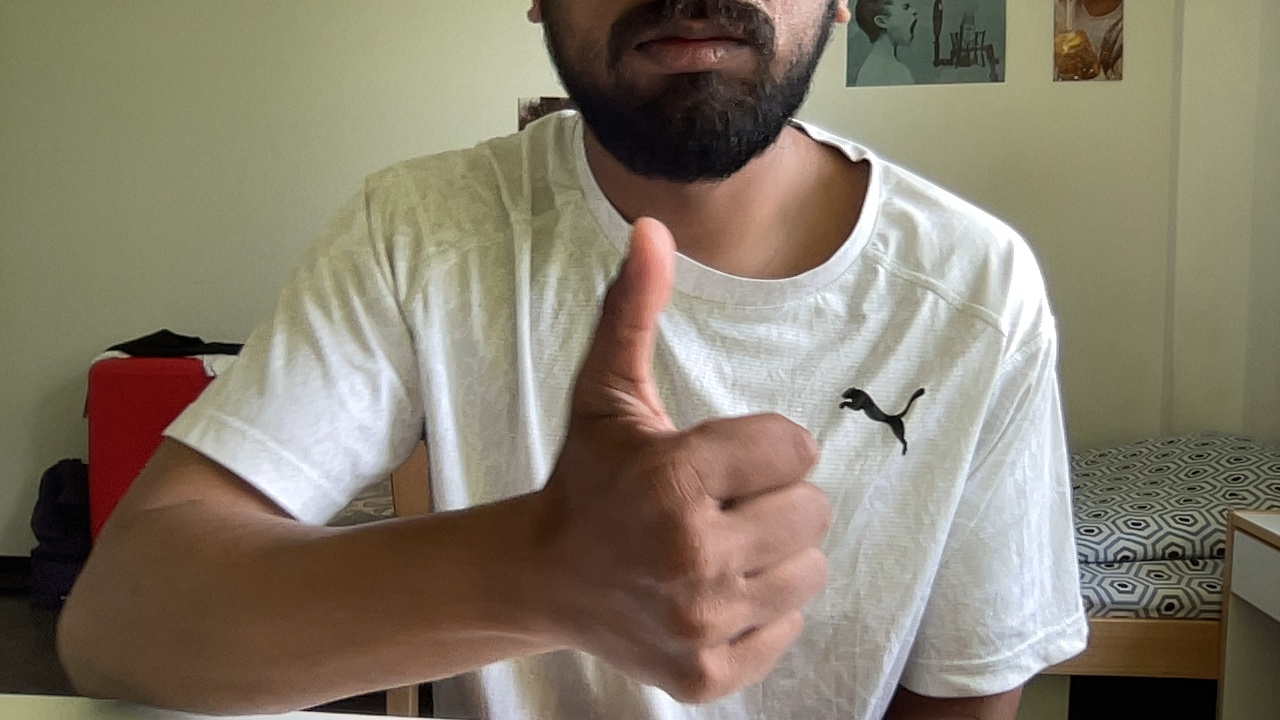ThumbsUp: (554, 214, 832, 708)
